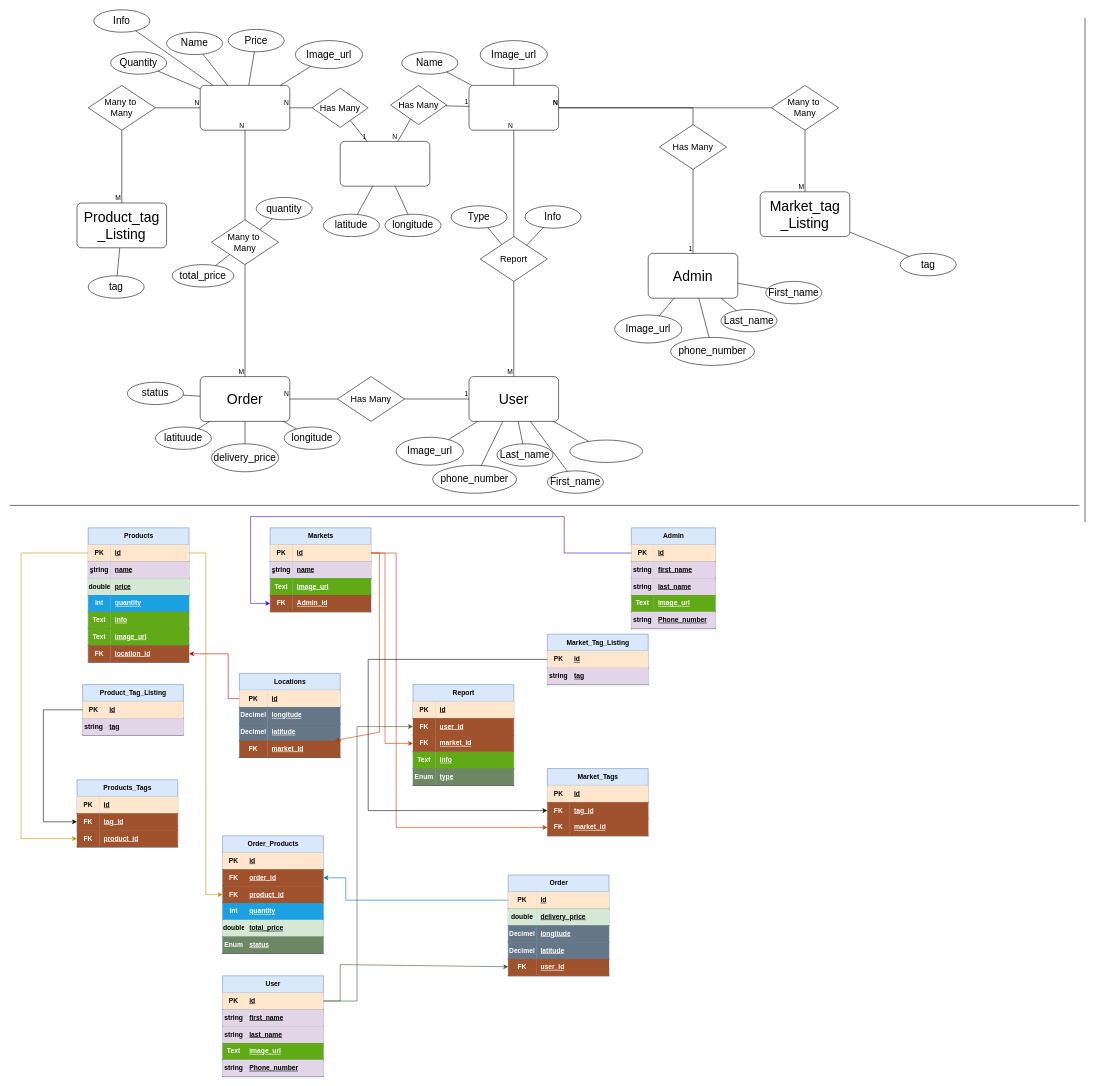
Some shapes in this 1095 by 1086 pixel diagram are drawn without their labels. The centre of each missing label's shape, as x and y in pixels:
Location: point 385,163
Market: point 513,107
password: point 606,450
Poduct: point 245,107
